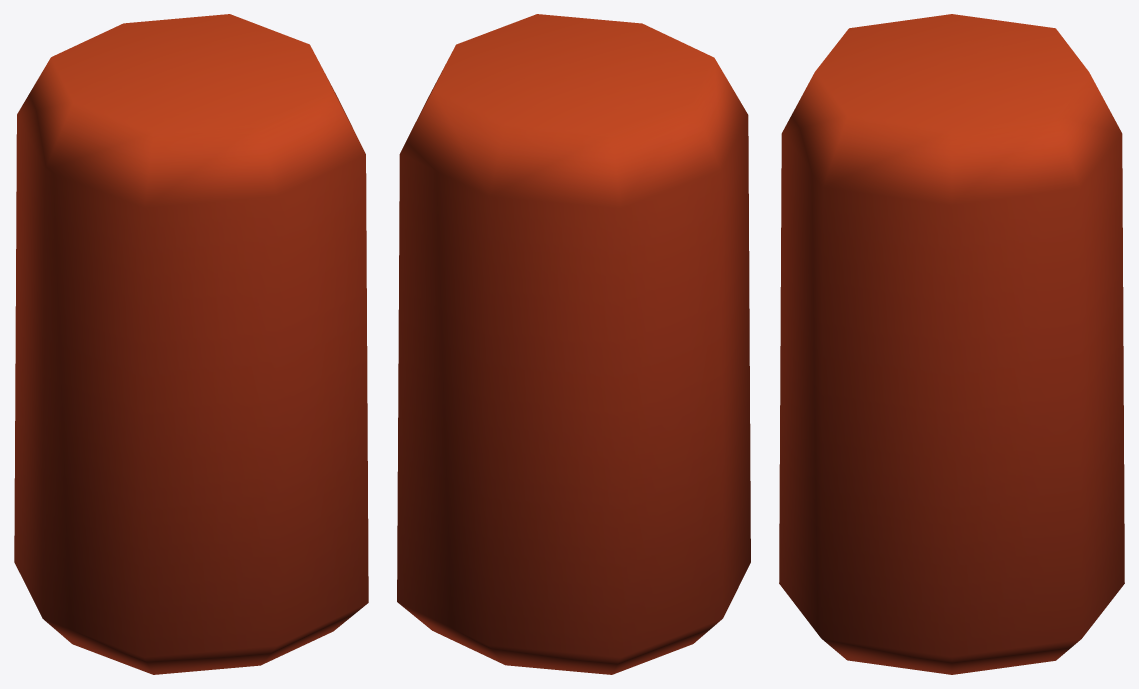
The model's file is bottle_glass_content.fbx.
The picture shows the model from 3 angles, left to right: view 1: azimuth 30°, elevation 25°; view 2: azimuth 150°, elevation 25°; view 3: azimuth 270°, elevation 25°; orthographic projection.
Parts seen in each view (by area): view 1: bottle_glass_content; view 2: bottle_glass_content; view 3: bottle_glass_content.
Part boxes in pixels (bbox=[...]): bottle_glass_content: bbox=[14, 14, 368, 674]; bottle_glass_content: bbox=[397, 14, 750, 674]; bottle_glass_content: bbox=[779, 14, 1124, 674].
Bounding box in the file's own units: 20.29 × 35.28 × 20.3.
